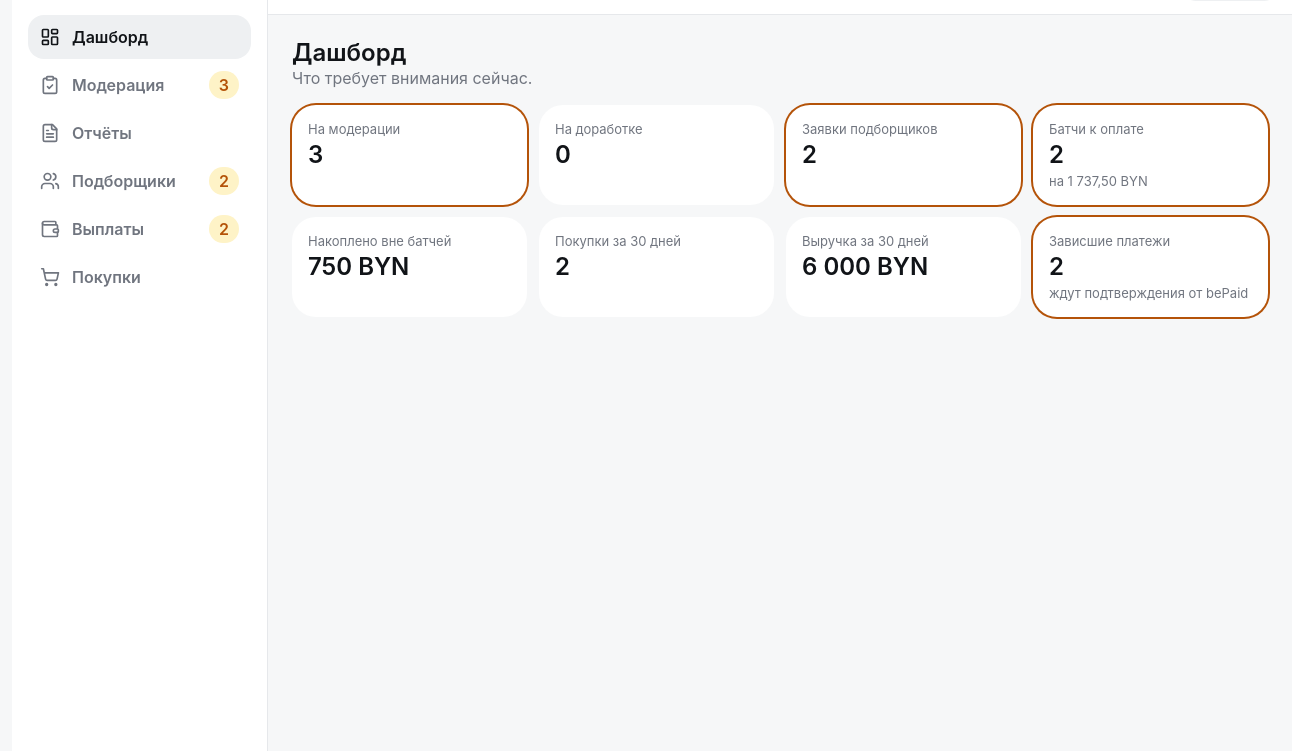
Scenario: дашборд › карточка revisionRequired ведёт на отфильтрованный список /reports?status=revision_required
Click the link "На доработке 0": [656, 155] box top-left (539, 105), bottom-right (774, 205)
(page scrolled)
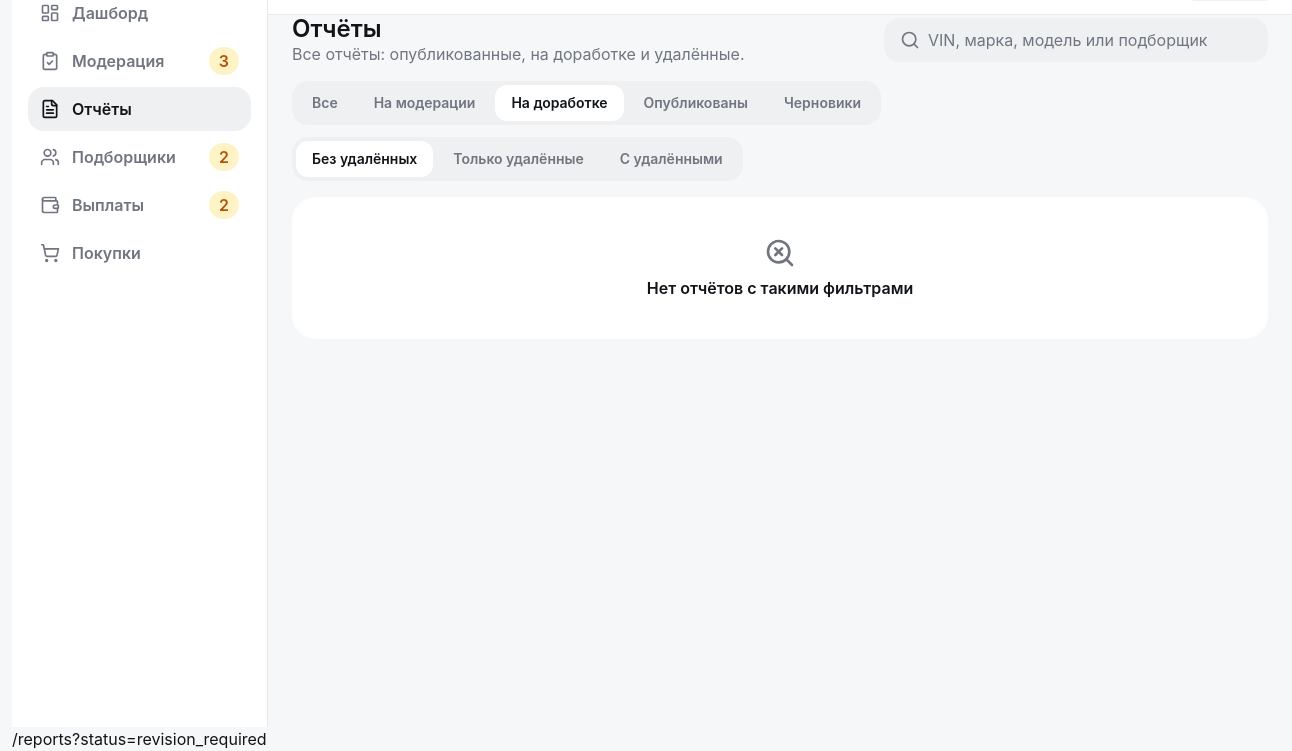
expect the text with test id "location" reads "/reports?status=revision_required": met, box top-left (12, 729), bottom-right (267, 749)
